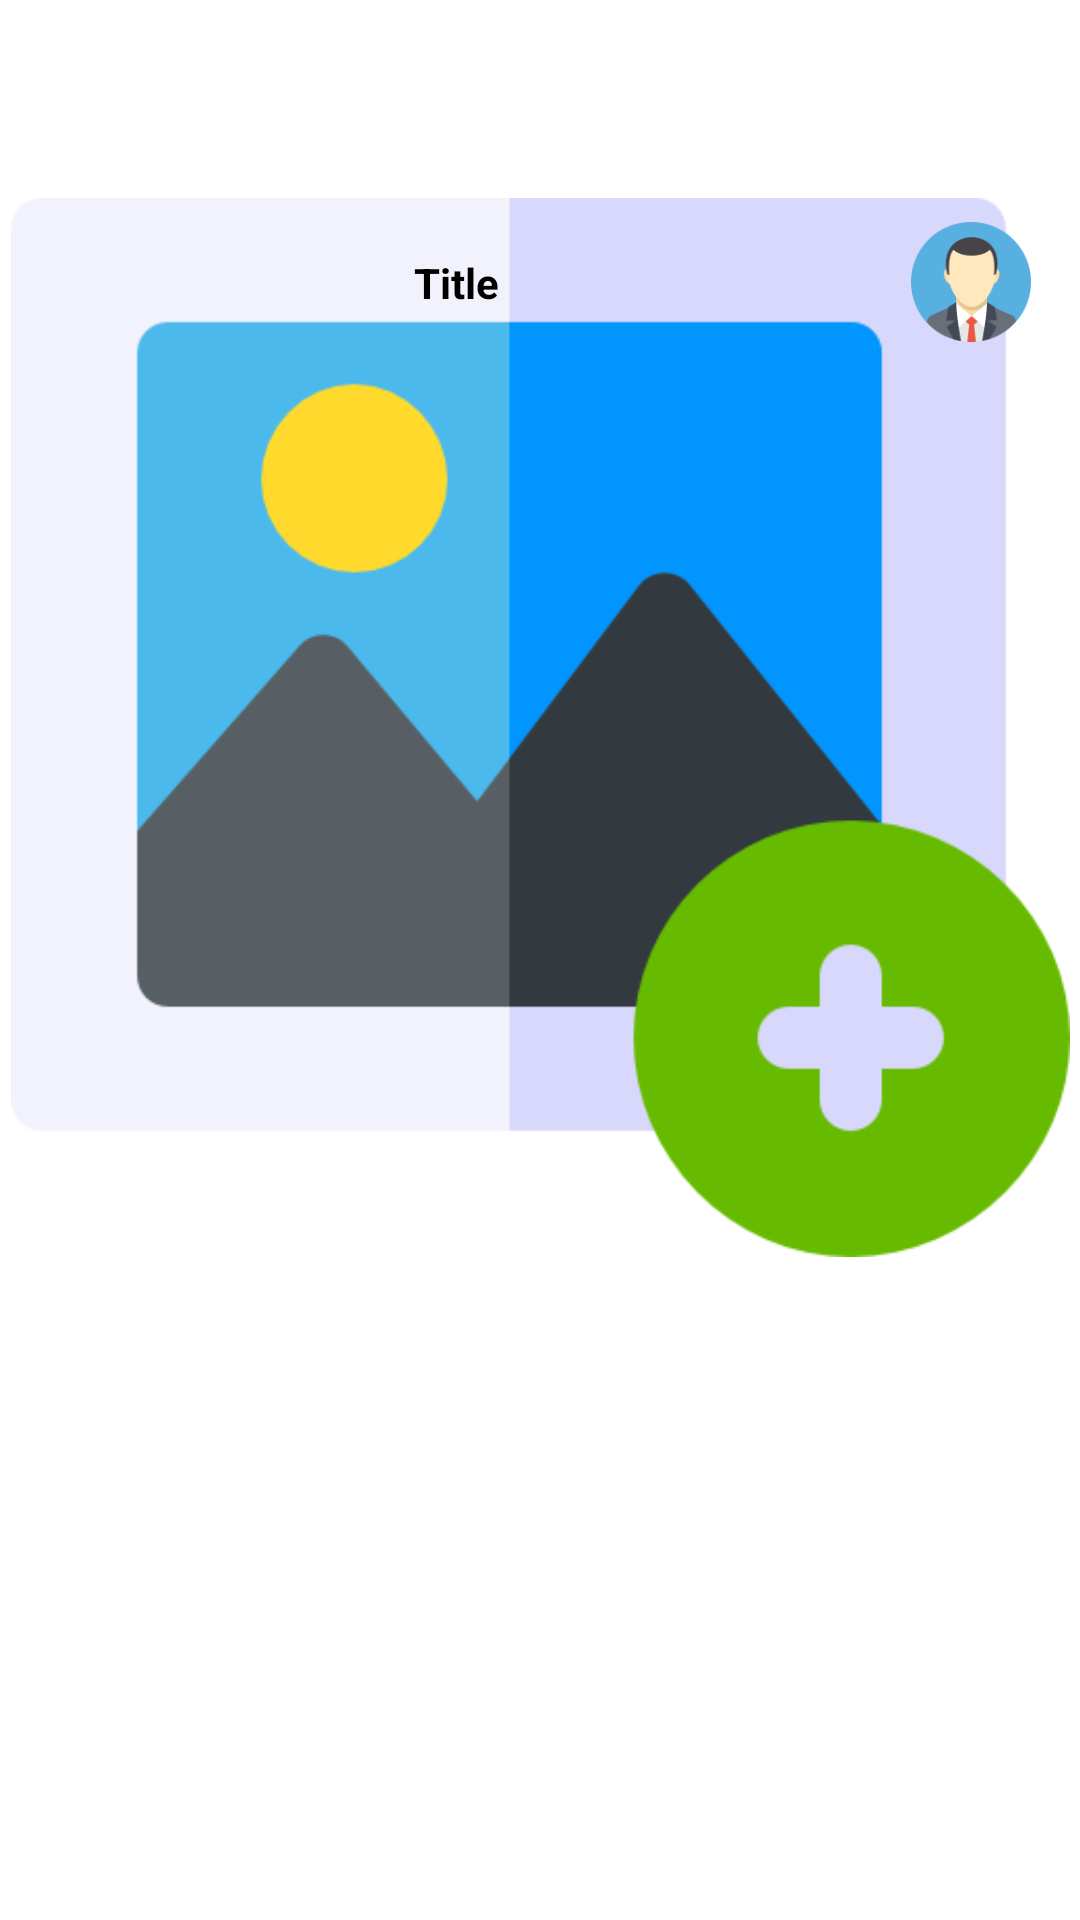

Locate icon controls on the screen. Image size 1080x1920, boxes as (x1, y1, x2, y2).
avataphoto: (911, 222, 1031, 342)
